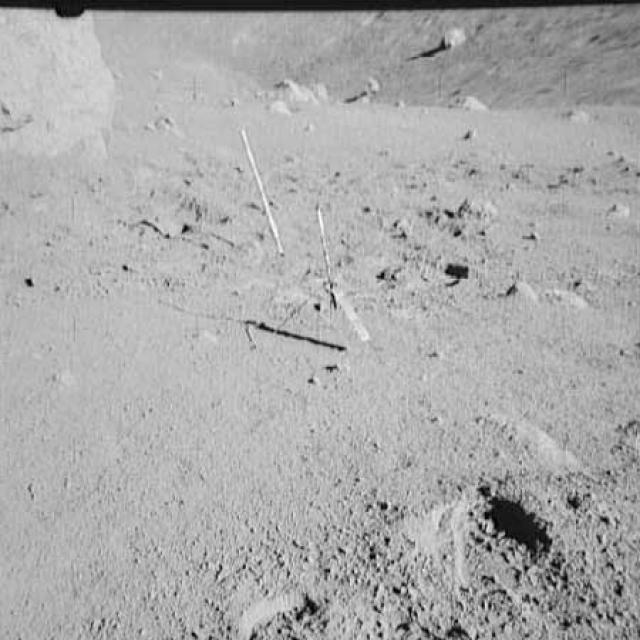artifact: (286, 206, 383, 353), (219, 122, 291, 263)
rock: (266, 72, 332, 106), (452, 190, 500, 222), (546, 282, 583, 315), (432, 25, 470, 54), (555, 101, 592, 127), (507, 274, 535, 308), (453, 92, 491, 113), (598, 200, 633, 222), (358, 72, 392, 92)
